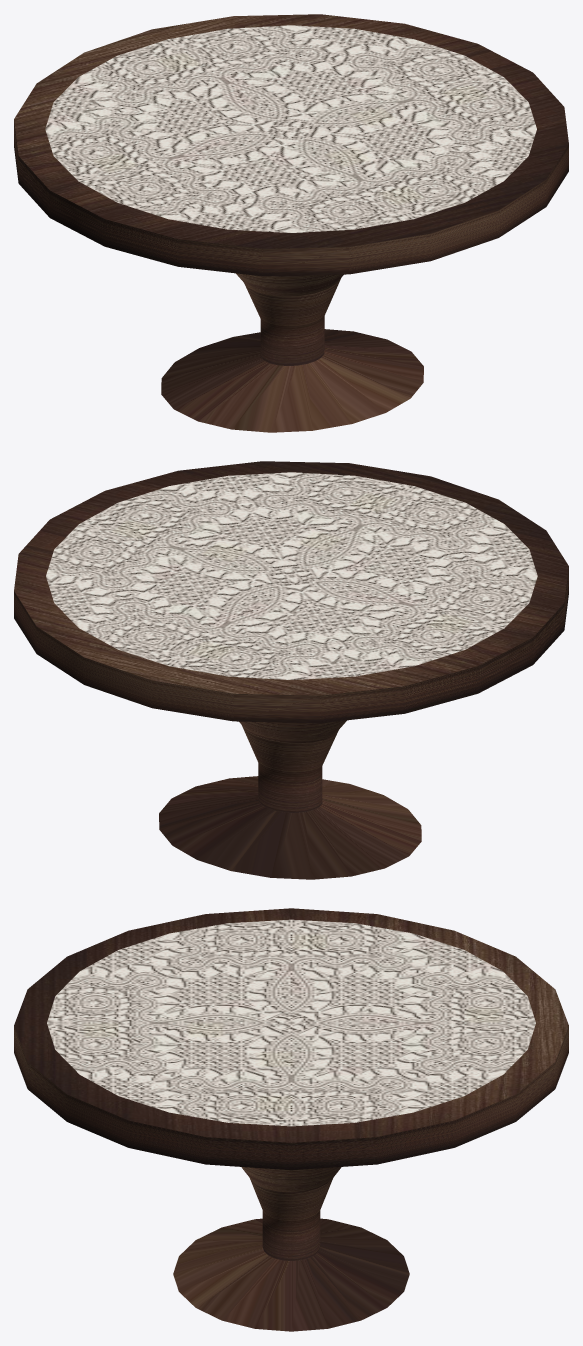
The model's file is Table 2.fbx.
The picture shows the model from 3 angles, top to bottom: view 1: azimuth 30°, elevation 25°; view 2: azimuth 150°, elevation 25°; view 3: azimuth 270°, elevation 25°; orthographic projection.
Parts seen in each view (by area): view 1: pDisc2, pCylinder1, pCylinder2; view 2: pDisc2, pCylinder1, pCylinder2; view 3: pDisc2, pCylinder1, pCylinder2.
Boxes of the visible parts, x1=… form: pDisc2: x1=45, y1=25, x2=536, y2=232; pCylinder1: x1=14, y1=14, x2=568, y2=276; pCylinder2: x1=161, y1=273, x2=423, y2=432; pDisc2: x1=46, y1=472, x2=537, y2=679; pCylinder1: x1=14, y1=461, x2=568, y2=723; pCylinder2: x1=159, y1=720, x2=421, y2=879; pDisc2: x1=47, y1=919, x2=535, y2=1126; pCylinder1: x1=14, y1=908, x2=568, y2=1170; pCylinder2: x1=173, y1=1167, x2=409, y2=1331.
Size of the model in its own units: 7.29 by 3.63 by 7.29.
